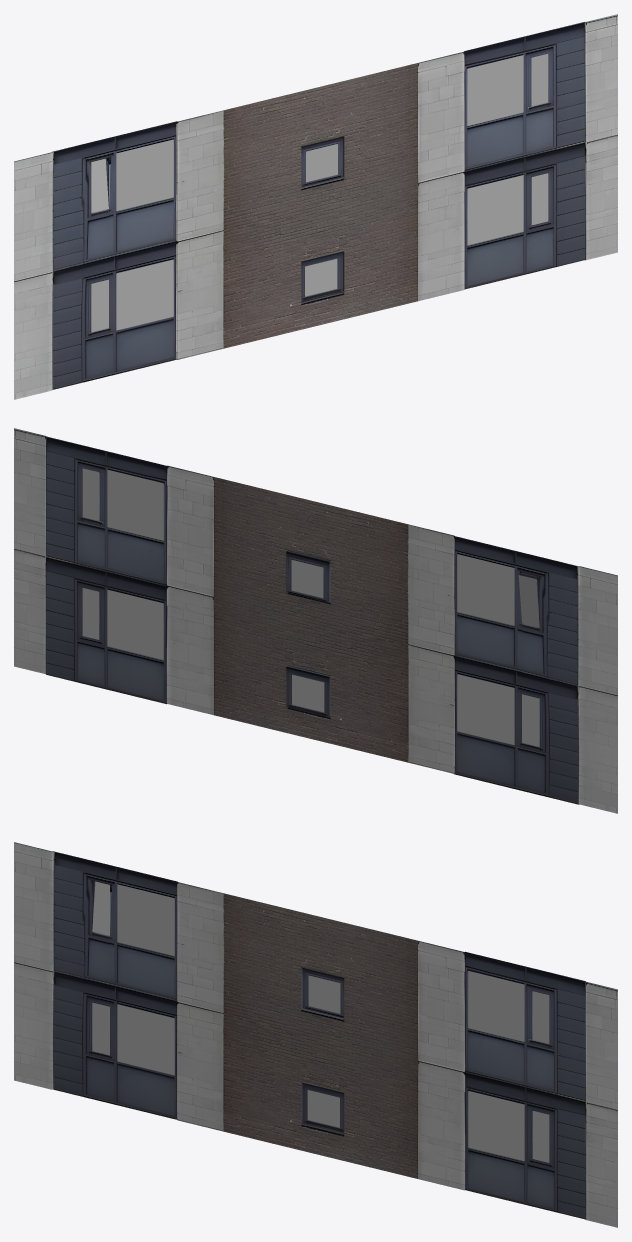
Rendered from apartment_block5.obj.
3 views of the same model, one above another, from view 1: azimuth 30°, elevation 25°; view 2: azimuth 150°, elevation 25°; view 3: azimuth 330°, elevation 25° (orthographic).
Parts seen in each view (by area): view 1: apartment_block5; view 2: apartment_block5; view 3: apartment_block5.
Boxes of the visible parts, box(x1,y1,x2,y2) form: apartment_block5: box(14, 14, 617, 399); apartment_block5: box(14, 428, 617, 813); apartment_block5: box(14, 842, 617, 1227).
Size of the model in its own units: 5 by 1.88 by 0.0562.
